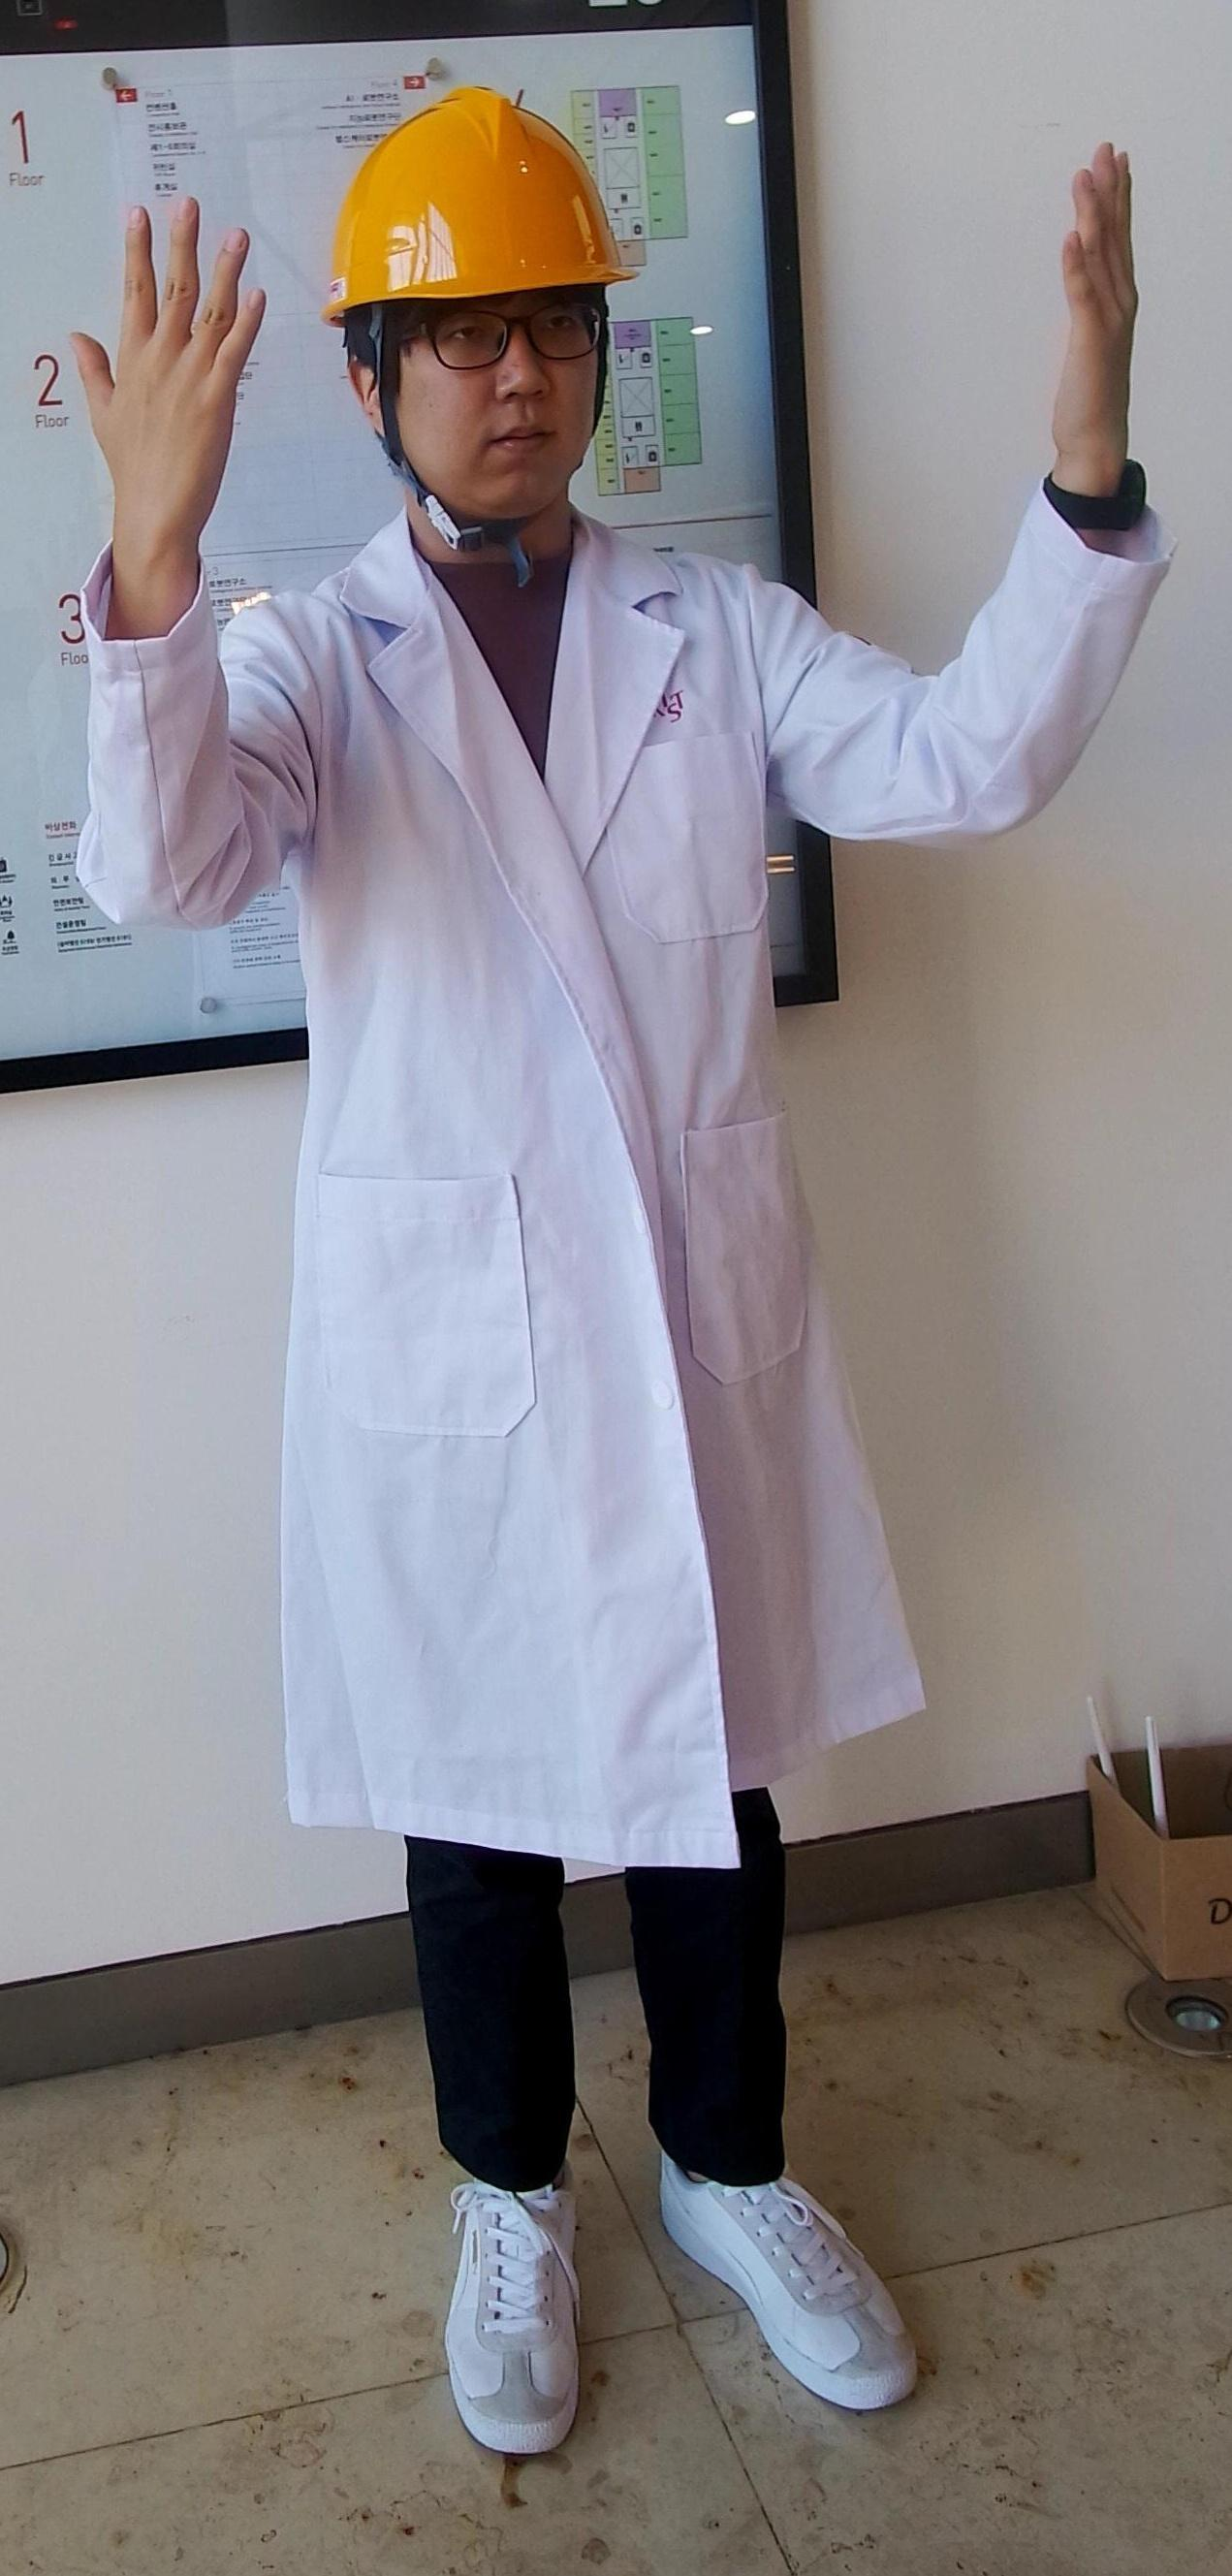lab_coat: (253, 559, 946, 1837)
